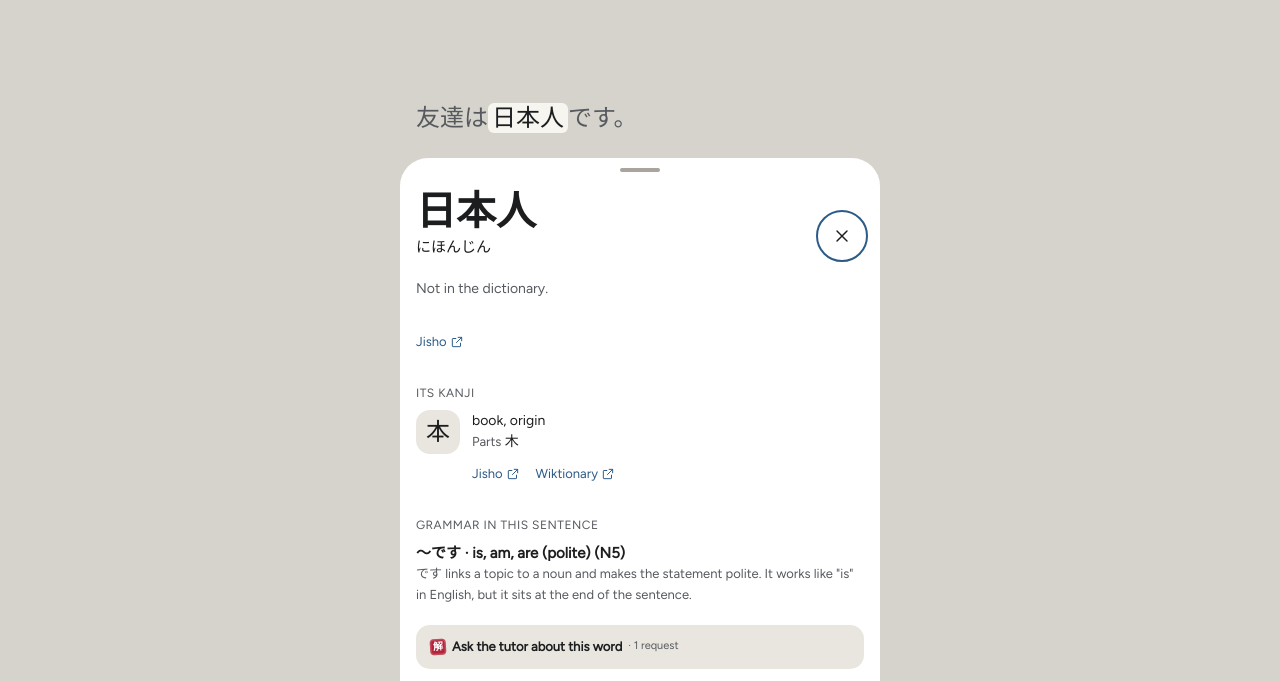
Scenario: a less common reading from the tutor (R10) › marks にっぽんじん inside the AI box and names にほんじん
Step 1. Click the button with aria-label "Ask the tutor about this word, " → [640, 647], box [416,625,864,669]
(page scrolled)
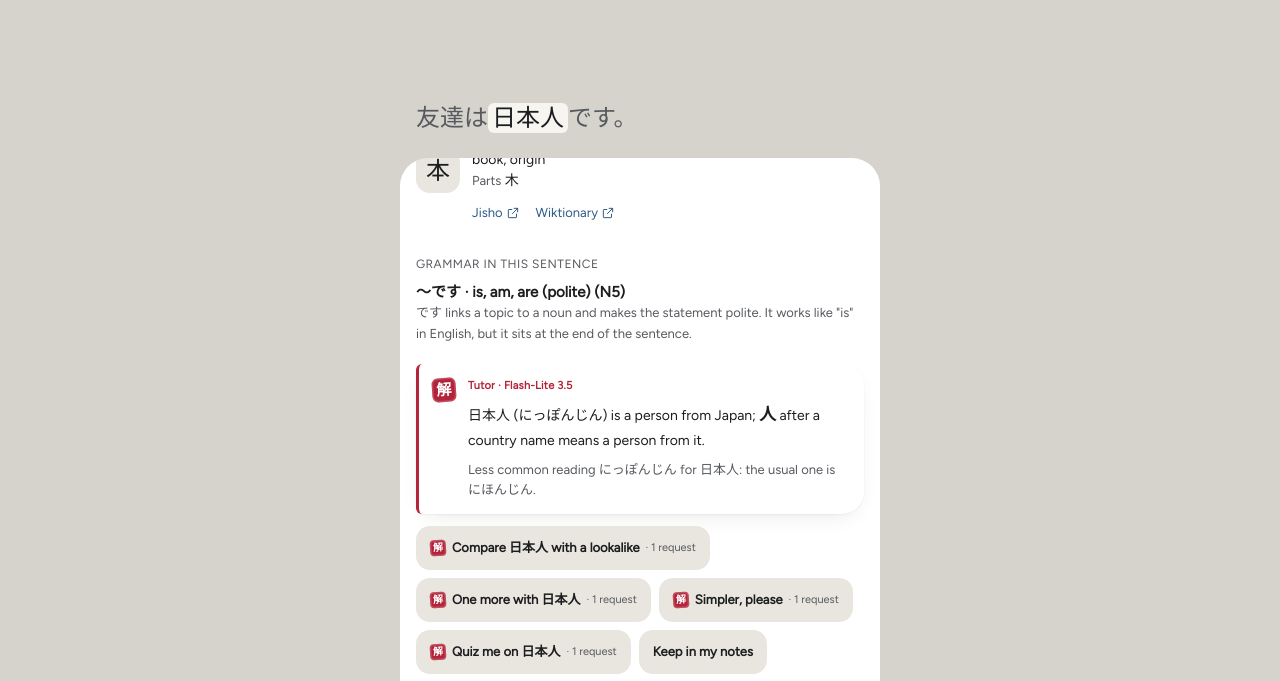
Now the element named "The tutor on 日本人" shows "Less common reading にっぽんじん for 日本人: the usual one is にほんじん.", box [416,364,864,514]
